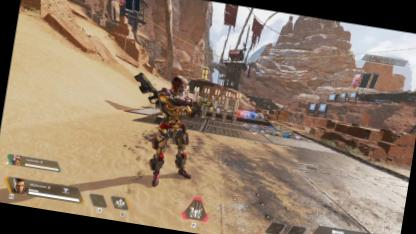Target: (144, 72, 202, 186)
